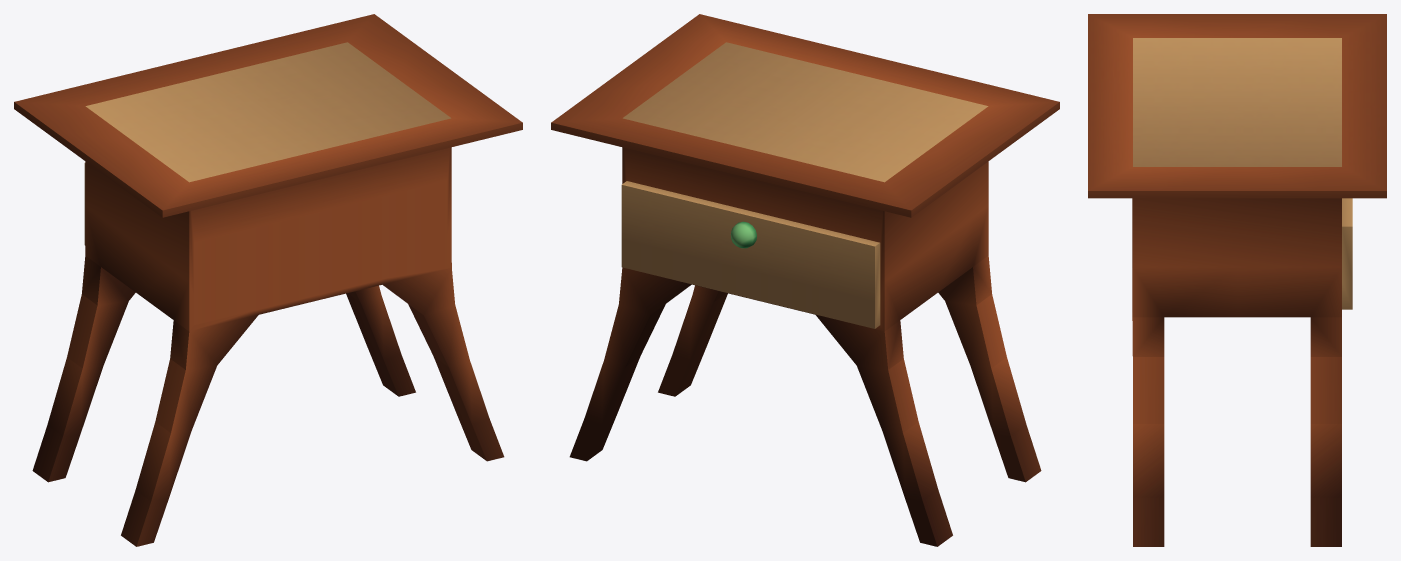
File: night stand.FBX
The picture shows the model from 3 angles, left to right: view 1: azimuth 30°, elevation 25°; view 2: azimuth 150°, elevation 25°; view 3: azimuth 270°, elevation 25°; orthographic projection.
Parts seen in each view (by area): view 1: Box001; view 2: Box001; view 3: Box001.
Part boxes in pixels (x1,y1,x2,y2): Box001: (14,14,522,546); Box001: (551,14,1059,546); Box001: (1088,14,1386,546).
Bounding box in the file's own units: 81.57 × 74.51 × 56.99.
1 material, 1 textured.
